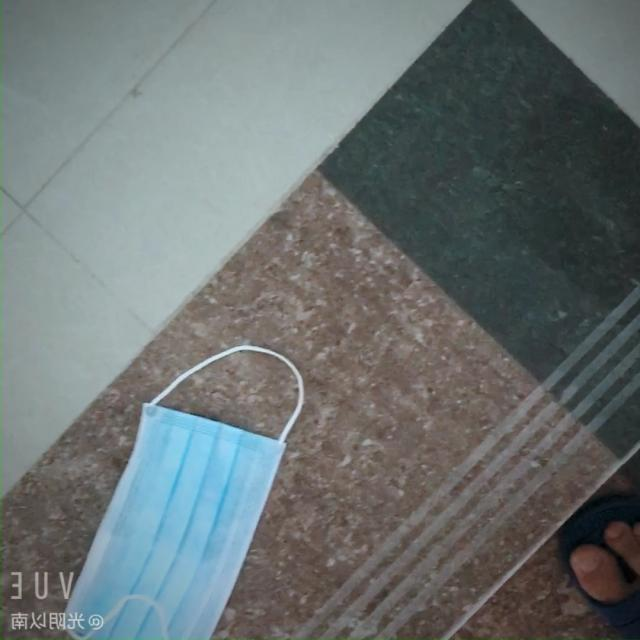face mask: (49, 371, 300, 631)
